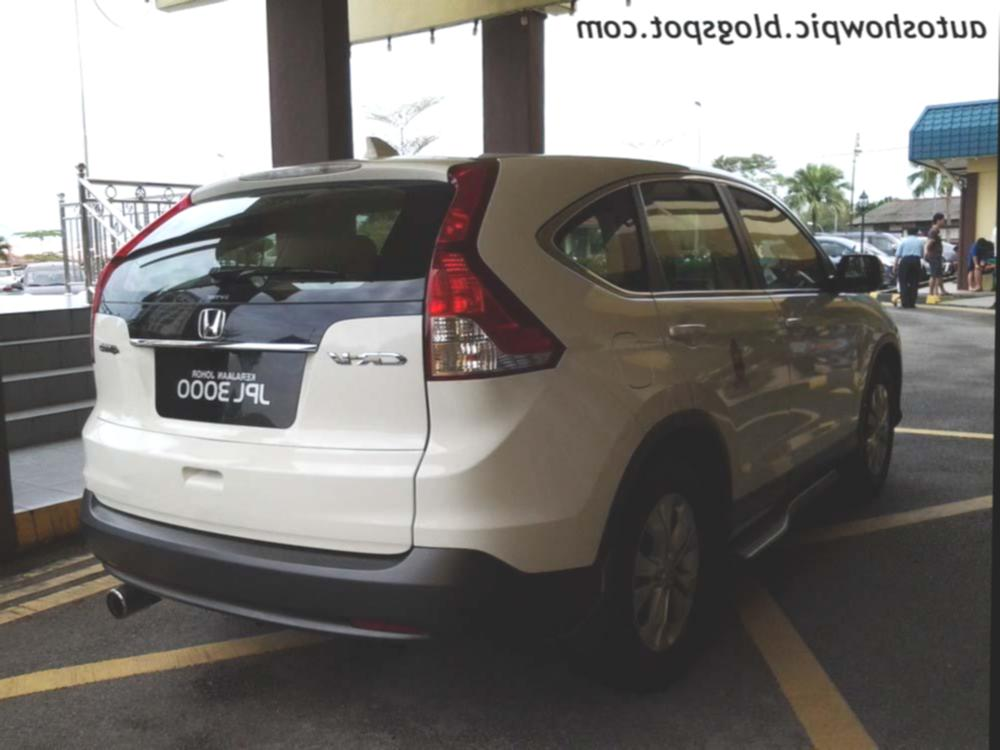License_Plate: (147, 352, 308, 431)
